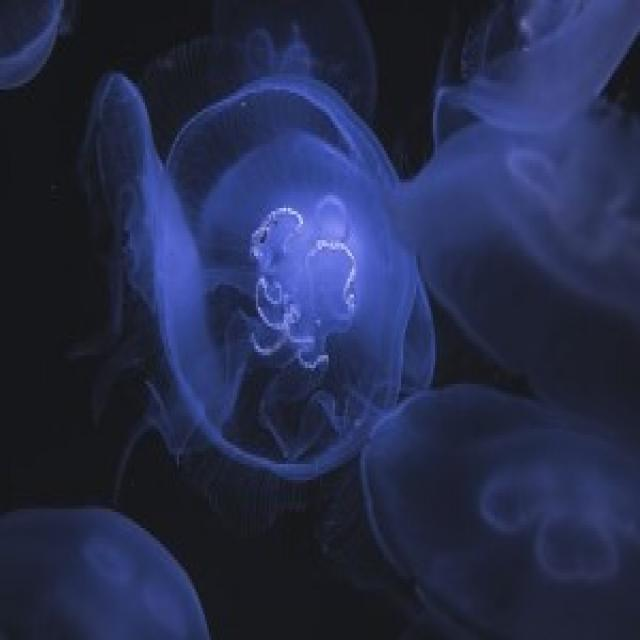Jellyfish: (161, 66, 437, 490), (370, 380, 640, 640), (448, 136, 640, 378), (80, 81, 182, 468), (444, 0, 640, 121)
